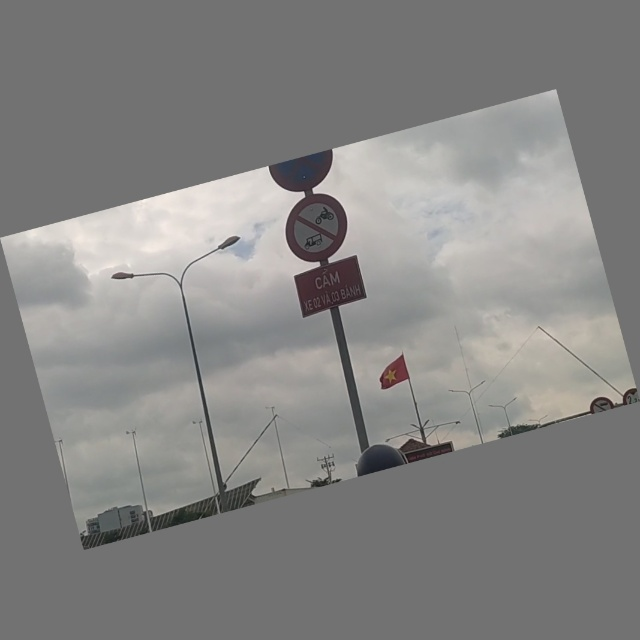P.107: (586, 395, 615, 416)
P.111: (278, 188, 356, 270)
P.117*: (620, 387, 640, 406)
P.130: (264, 155, 343, 199)
